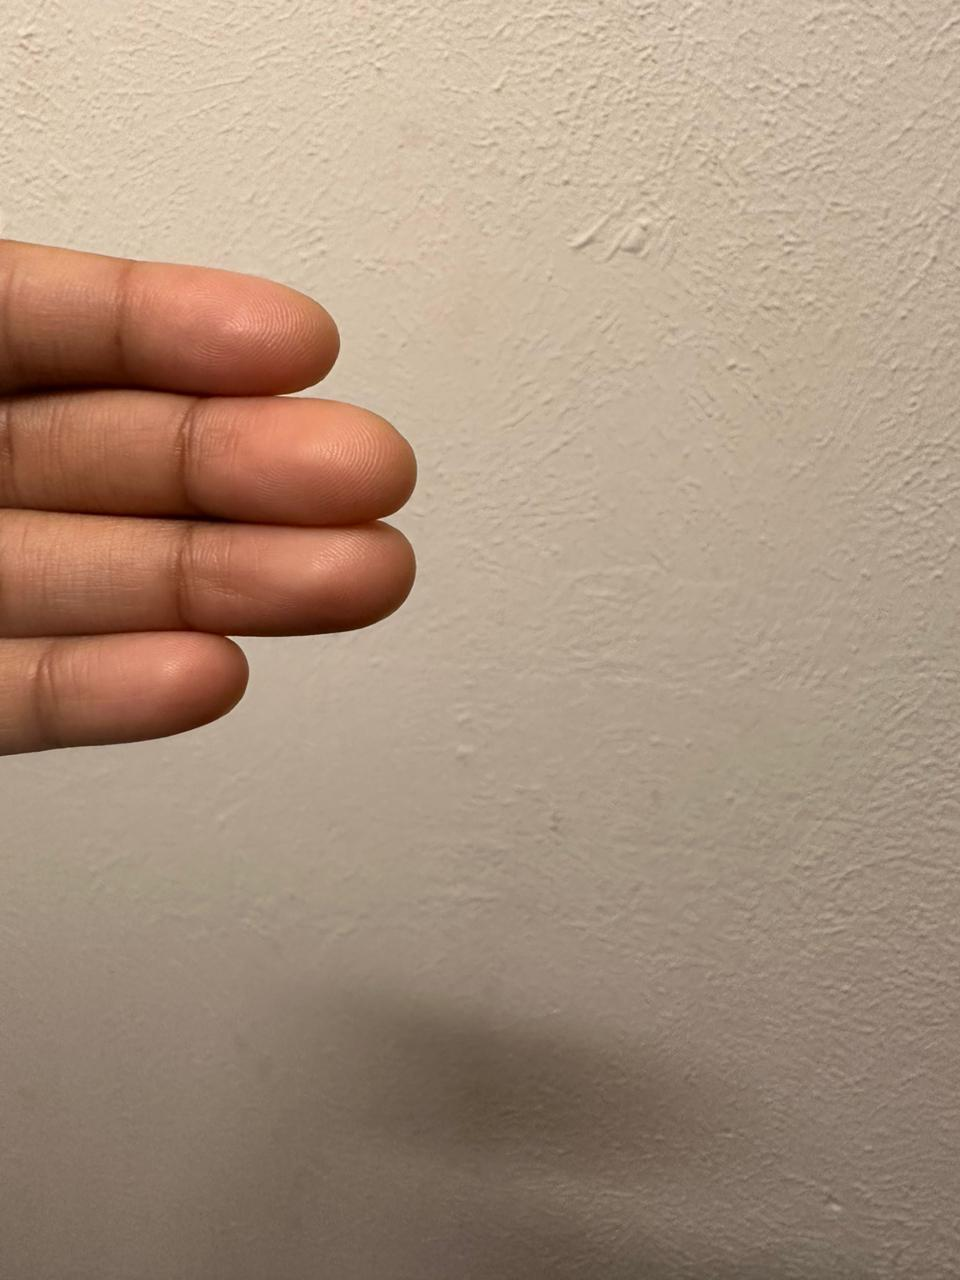finger: (118, 260, 365, 392), (185, 399, 437, 522), (179, 522, 438, 635), (35, 629, 269, 745)
